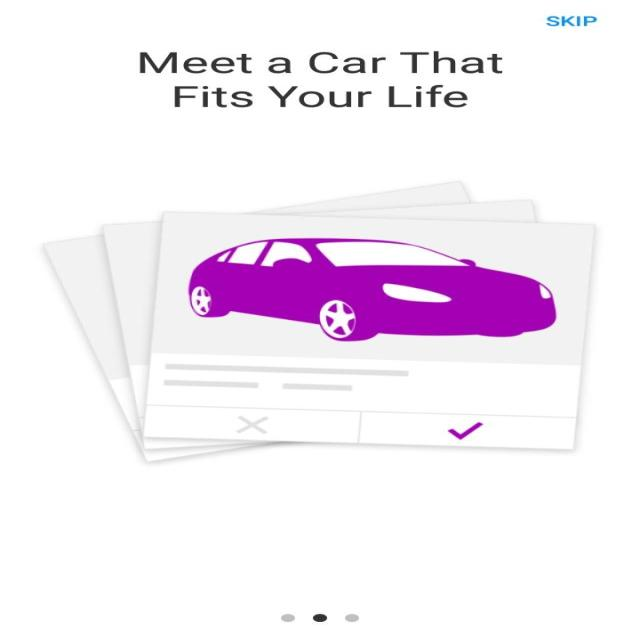Image: (42, 180, 596, 462)
Text: (138, 51, 502, 108), (544, 16, 596, 27)
